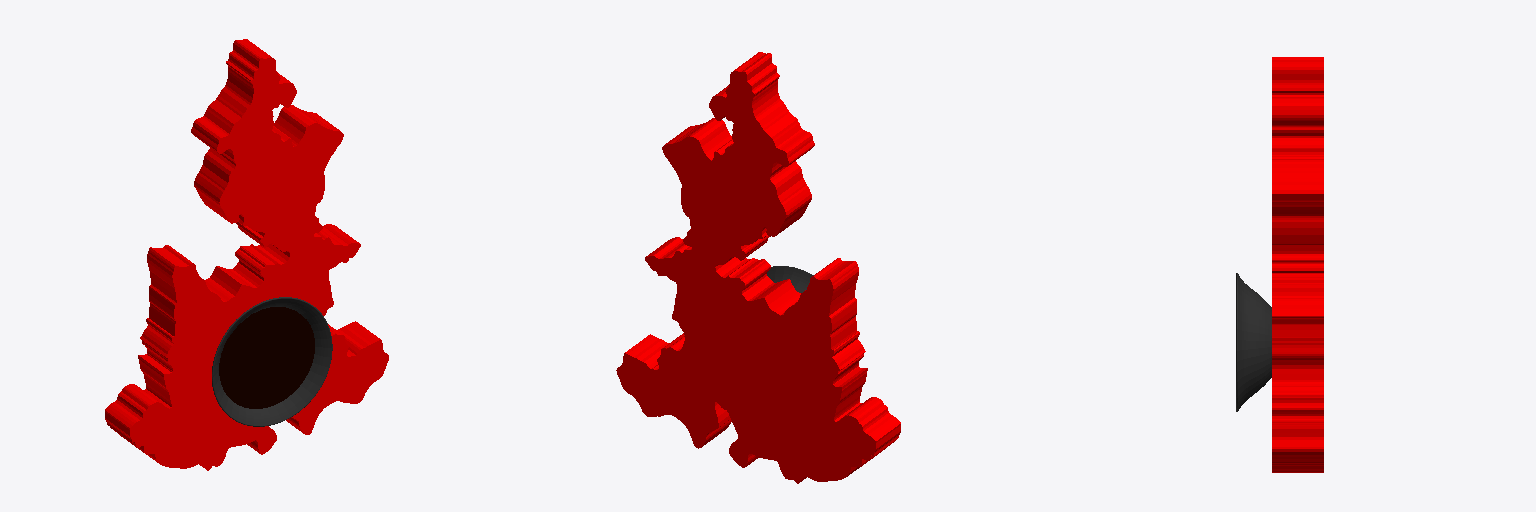
File: Puebla.obj
3 views of the same model, side by side, from view 1: azimuth 30°, elevation 25°; view 2: azimuth 150°, elevation 25°; view 3: azimuth 270°, elevation 25° (orthographic).
Visible parts, largest first — view 1: group_0_[number redacted], Plane002 group1, group1 Rectangle001; view 2: group_0_[number redacted], group1 Rectangle001; view 3: group_0_[number redacted], group1 Rectangle001.
Boxes of the visible parts, x1=… form: group_0_[number redacted]: x1=105, y1=39, x2=388, y2=470; Plane002 group1: x1=219, y1=307, x2=314, y2=408; group1 Rectangle001: x1=212, y1=297, x2=332, y2=426; group_0_[number redacted]: x1=616, y1=52, x2=900, y2=483; group1 Rectangle001: x1=767, y1=266, x2=813, y2=292; group_0_[number redacted]: x1=1272, y1=57, x2=1323, y2=472; group1 Rectangle001: x1=1236, y1=273, x2=1271, y2=411.
Size of the model in its own units: 22.69 by 33.43 by 6.61.